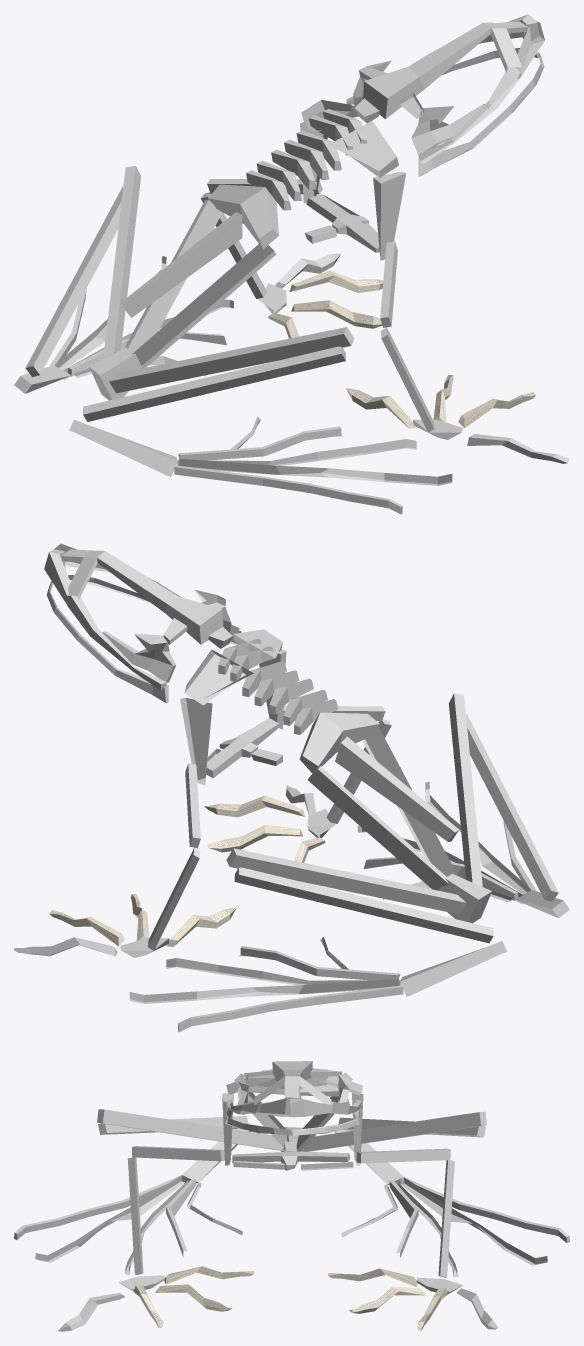
The model's file is Jump.glb.
The picture shows the model from 3 angles, top to bottom: view 1: azimuth 30°, elevation 25°; view 2: azimuth 150°, elevation 25°; view 3: azimuth 270°, elevation 25°; orthographic projection. The views are drawn at different scales.
Parts seen in each view (by area): view 1: Cube.027, Cube.040, Cube.011, Cube.050, Cube.008, Cube.009, Cube.020, Cube.019, Cube.022, Cube.047, Cube.010, Cube.003 (+15 smaller); view 2: Cube.027, Cube.040, Cube.022, Cube.050, Cube.019, Cube.020, Cube.008, Cube.009, Cube.011, Cube.047, Cube.021, Cube.013 (+14 smaller); view 3: Cube.040, Cube.011, Cube.022, Cube.050, Cube.008, Cube.019, Cube.027, Cube.018, Cube.007, Cube.003, Cube.047, Cube.013 (+14 smaller).
Boxes of the visible parts, x1,y1,x2,y2 form: Cube.027: [89, 184, 278, 400]; Cube.040: [346, 14, 544, 163]; Cube.011: [174, 416, 452, 514]; Cube.050: [300, 100, 406, 260]; Cube.008: [109, 327, 354, 393]; Cube.009: [83, 346, 345, 421]; Cube.020: [25, 187, 123, 377]; Cube.019: [103, 165, 140, 358]; Cube.022: [49, 256, 233, 379]; Cube.047: [346, 48, 544, 176]; Cube.010: [69, 419, 177, 477]; Cube.003: [380, 327, 434, 432]; Cube.027: [299, 712, 491, 923]; Cube.040: [44, 543, 239, 690]; Cube.022: [129, 937, 403, 1032]; Cube.050: [180, 629, 286, 785]; Cube.019: [226, 848, 466, 914]; Cube.020: [234, 867, 493, 943]; Cube.008: [448, 693, 482, 886]; Cube.009: [466, 714, 558, 901]; Cube.011: [357, 781, 536, 904]; Cube.047: [46, 575, 241, 703]; Cube.021: [400, 941, 506, 996]; Cube.013: [148, 847, 200, 950]; Cube.040: [226, 1061, 361, 1117]; Cube.011: [14, 1175, 242, 1275]; Cube.022: [341, 1177, 569, 1277]; Cube.050: [222, 1067, 363, 1170]; Cube.008: [97, 1109, 283, 1150]; Cube.019: [303, 1111, 486, 1151]; Cube.027: [247, 1084, 339, 1151]; Cube.018: [356, 1148, 450, 1163]; Cube.007: [132, 1146, 224, 1161]; Cube.003: [127, 1157, 143, 1274]; Cube.047: [225, 1102, 359, 1135]; Cube.013: [438, 1160, 454, 1277].
Size of the model in its own units: 0.0197 by 0.0122 by 0.022.
3 materials, 3 textured.
